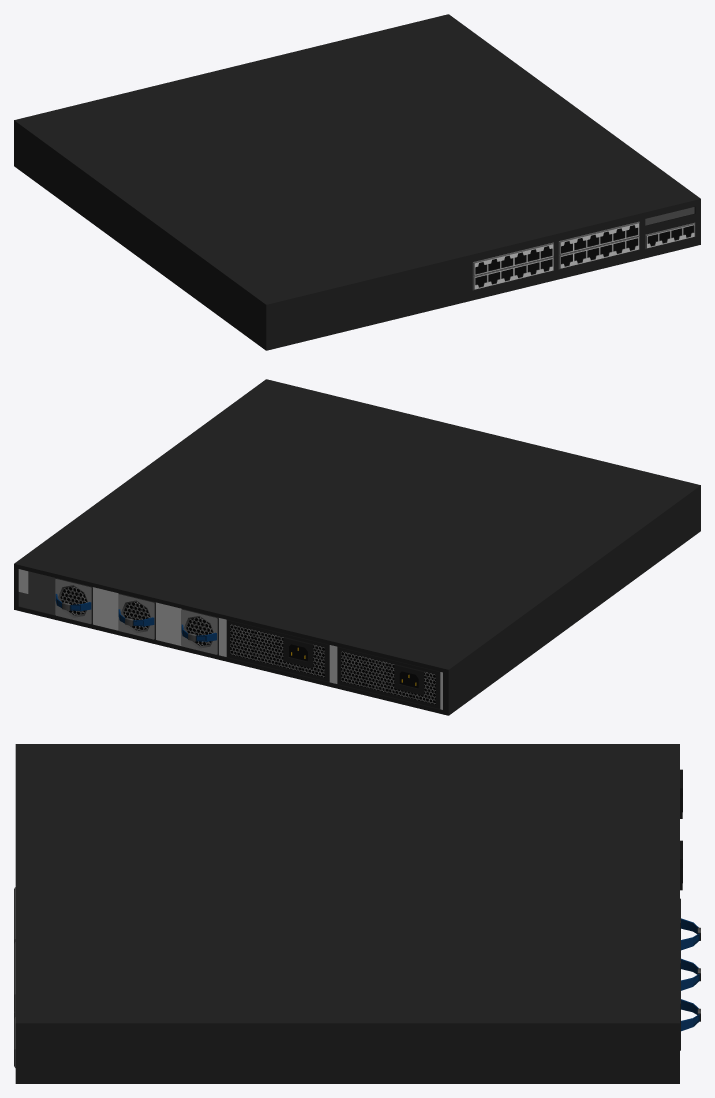
File: CISCO_C3650.fbx
3 views of the same model, one above another, from view 1: azimuth 30°, elevation 25°; view 2: azimuth 150°, elevation 25°; view 3: azimuth 270°, elevation 25° (orthographic). The views are drawn at different scales.
Visible parts, largest first — view 1: CISCO_C3650; view 2: CISCO_C3650; view 3: CISCO_C3650.
Boxes of the visible parts, x1=… form: CISCO_C3650: x1=14, y1=14, x2=700, y2=350; CISCO_C3650: x1=14, y1=379, x2=700, y2=715; CISCO_C3650: x1=14, y1=744, x2=700, y2=1083.
Bounding box in the file's own units: 445 × 45 × 462.
15 materials, 1 textured.
